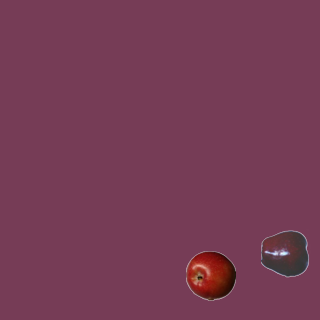Apple Braeburn: (185, 250, 235, 300)
Apple Red Delicious: (260, 228, 310, 278)
